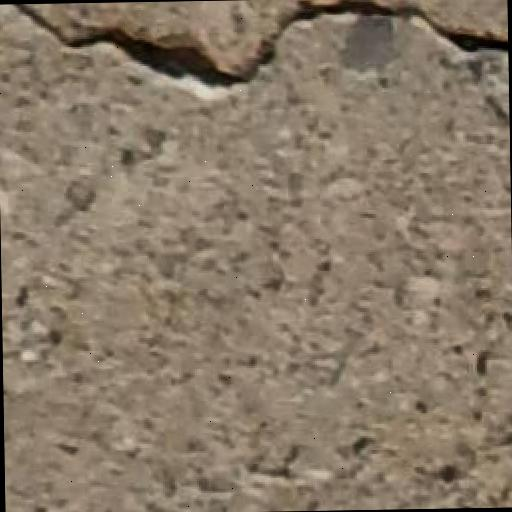spalling: (11, 0, 509, 110)
